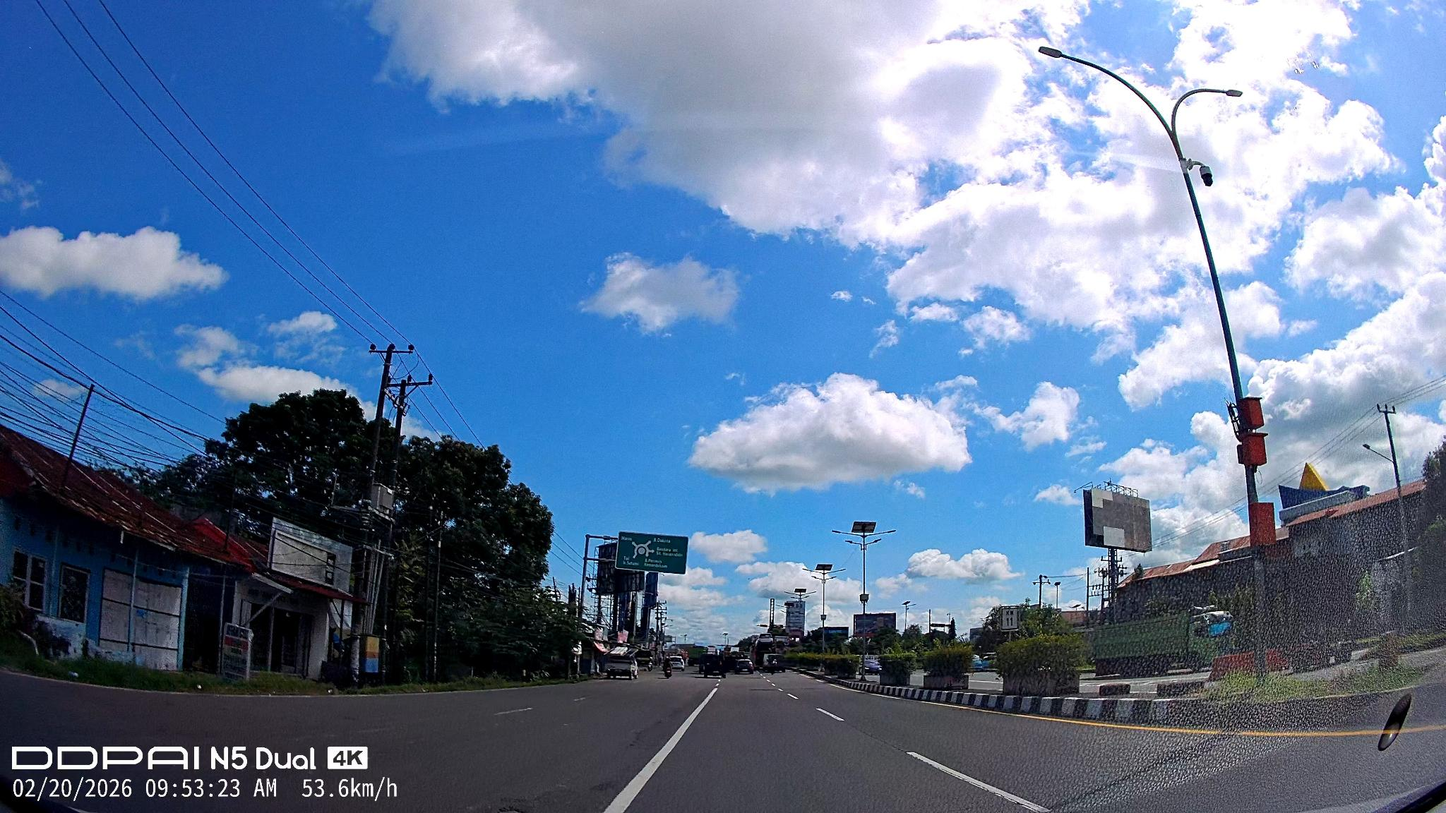rambu_teks: (615, 530, 692, 575)
